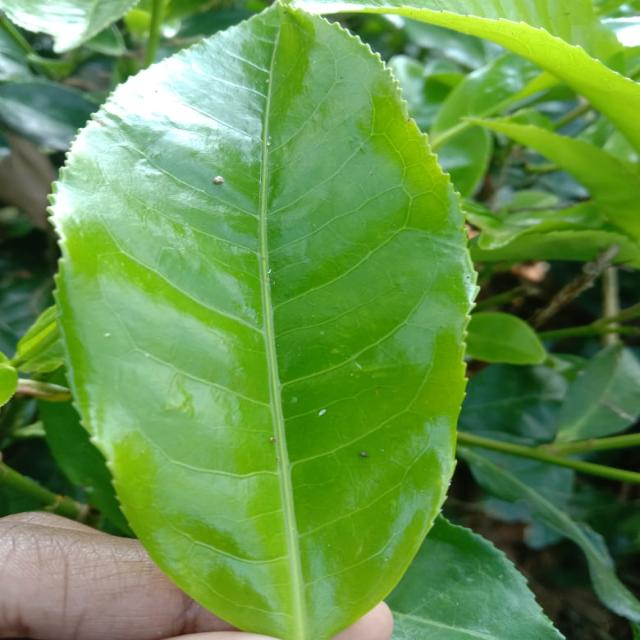Category B(2-4 days): (45, 0, 490, 640)
